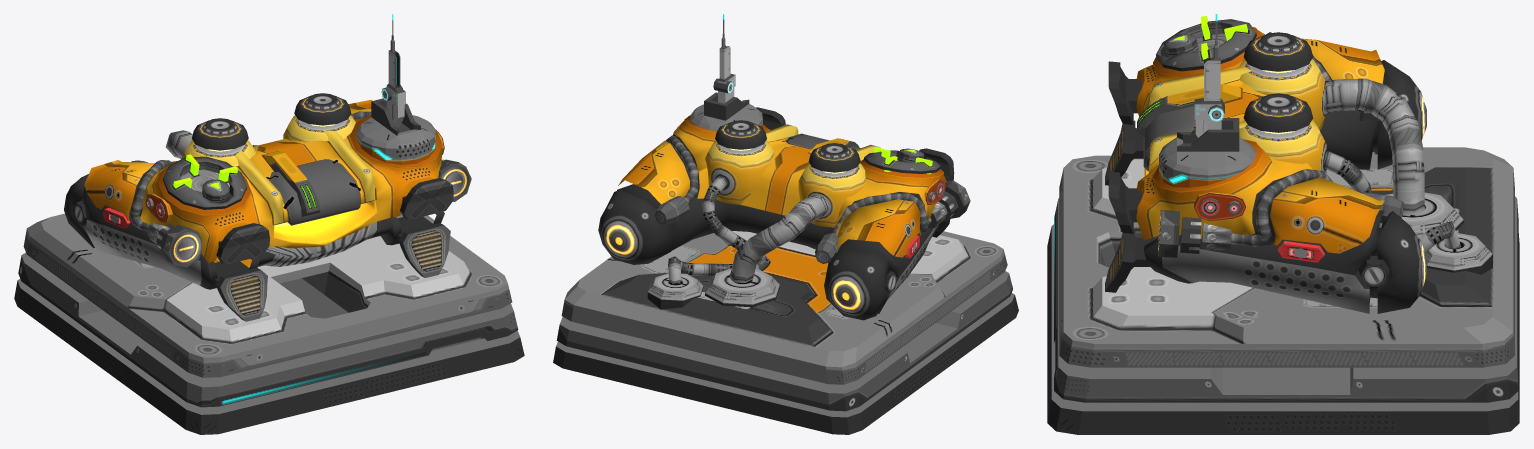
The model's file is headquater-1.glb.
The picture shows the model from 3 angles, left to right: view 1: azimuth 30°, elevation 25°; view 2: azimuth 150°, elevation 25°; view 3: azimuth 270°, elevation 25°; orthographic projection. The views are drawn at different scales.
Parts seen in each view (by area): view 1: Plane.011; view 2: Plane.011; view 3: Plane.011.
Part boxes in pixels (box(x1,y1,x2,y2)): Plane.011: box(14, 14, 524, 434); Plane.011: box(553, 14, 1018, 434); Plane.011: box(1047, 14, 1519, 434).
Bounding box in the file's own units: 44.92 × 39.57 × 44.86.
1 material, 1 textured.
